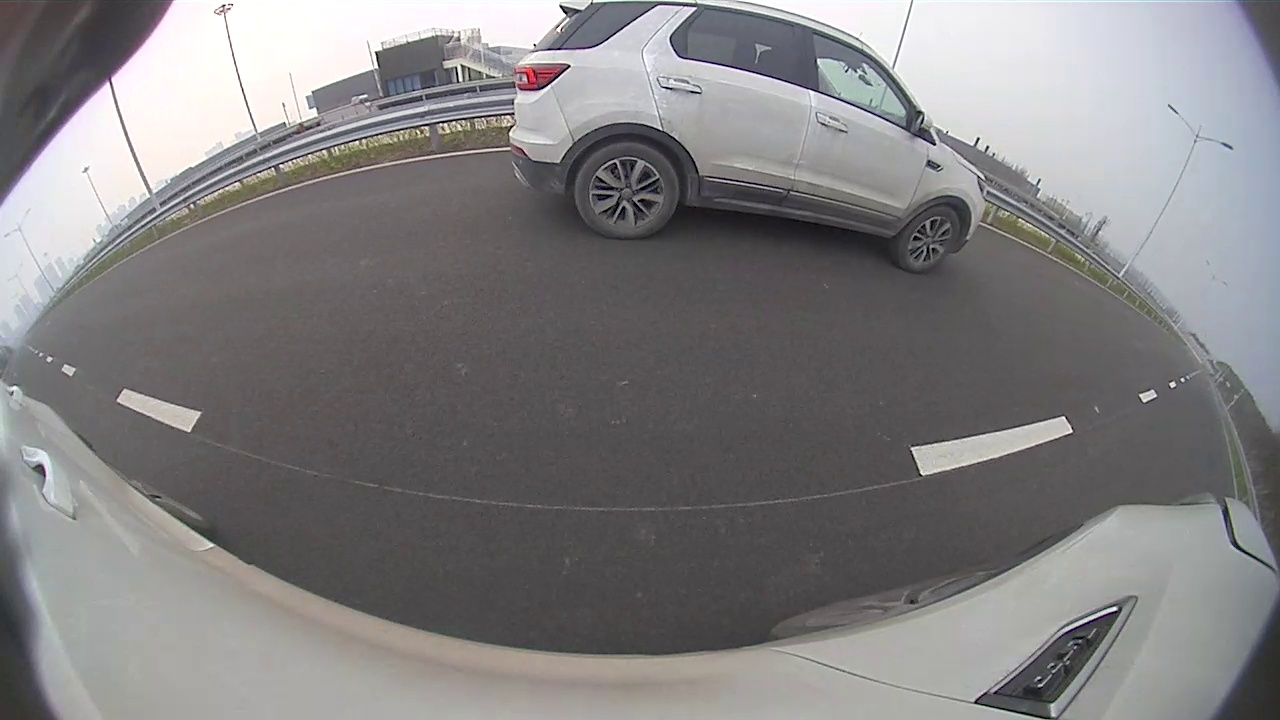car: (507, 5, 989, 273)
front: (898, 206, 963, 274)
rear: (576, 142, 680, 239)
